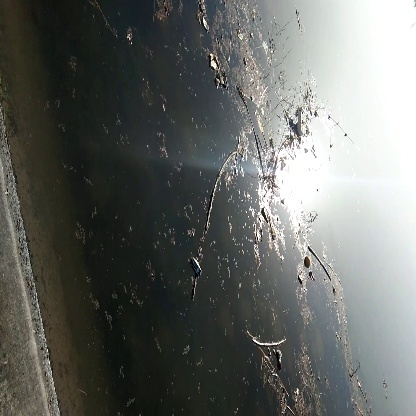branch: (200, 147, 248, 235)
